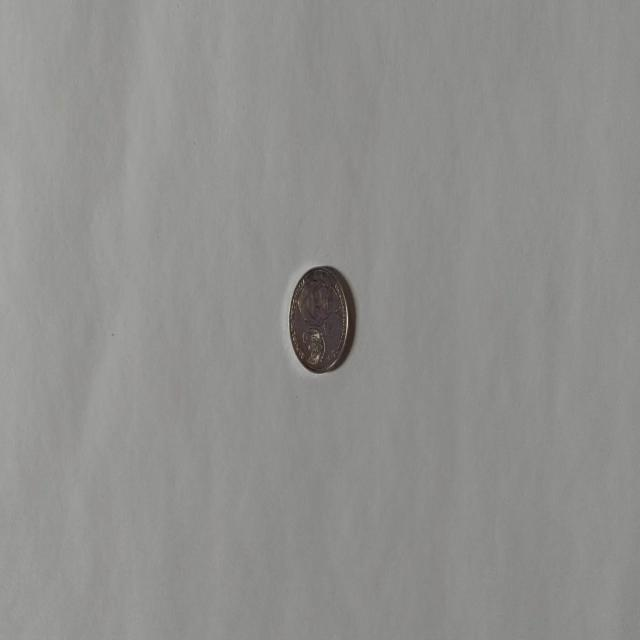dua ratus rupiah: (288, 264, 350, 374)
